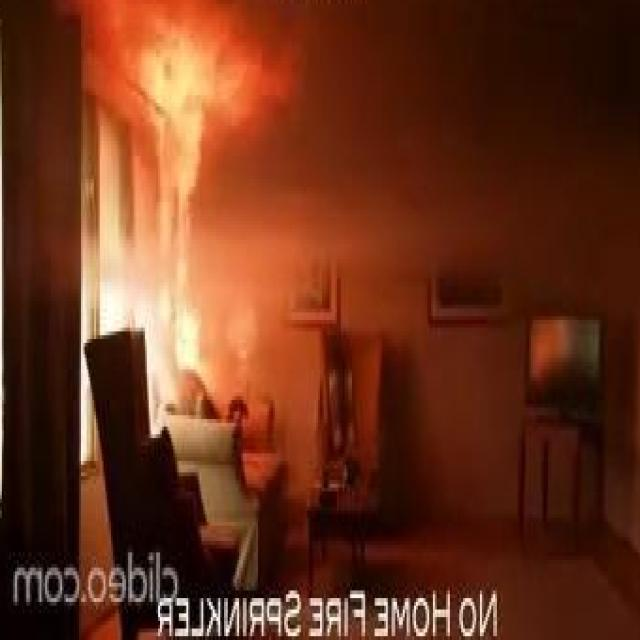smoke: (136, 11, 286, 206), (173, 301, 207, 374)
